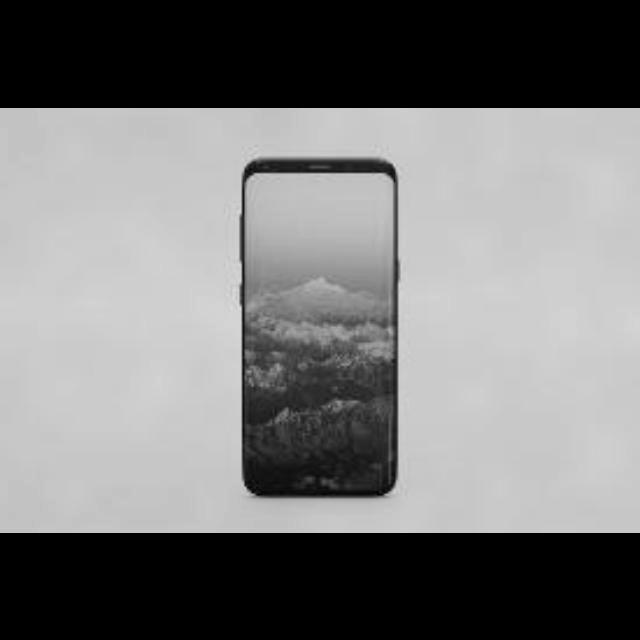fake: (241, 152, 402, 502)
